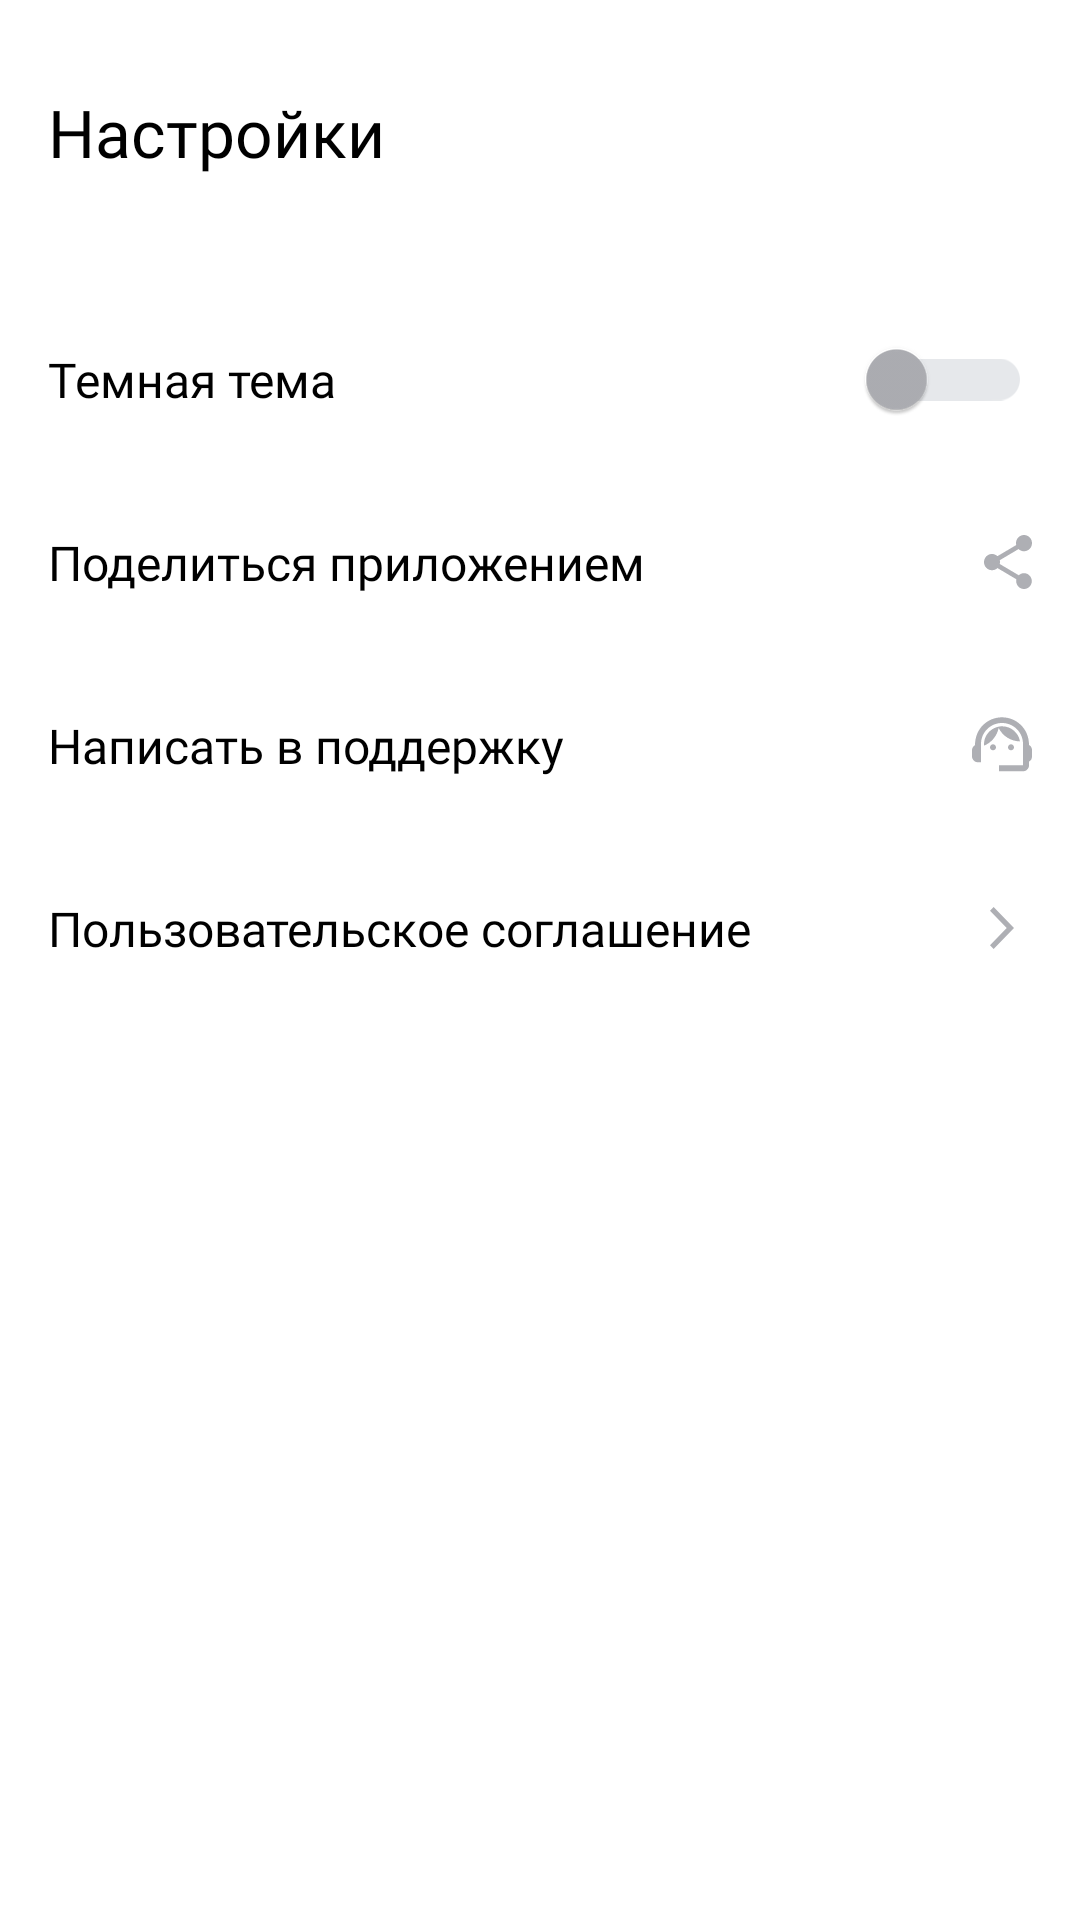

Icons on this 1080px x 1920px Android screen, each with the point to tap as (x=x, y=y):
share: (x=1008, y=562)
support: (x=1002, y=744)
